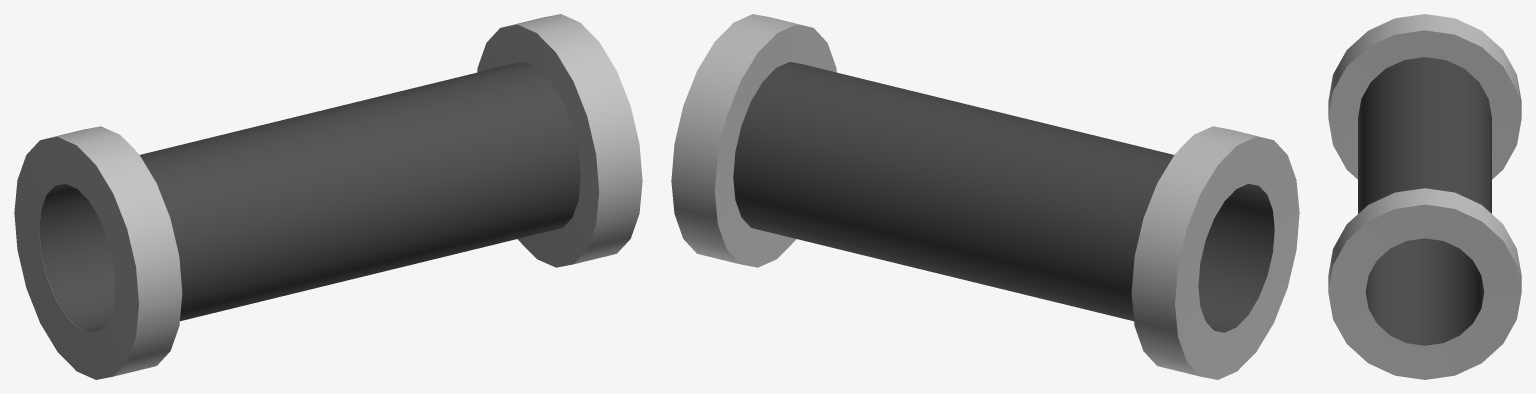
Rendered from Hazard_Pipe.fbx.
3 renders of one model, left to right at view 1: azimuth 30°, elevation 25°; view 2: azimuth 150°, elevation 25°; view 3: azimuth 270°, elevation 25°, orthographic. The views are drawn at different scales.
Parts seen in each view (by area): view 1: Pipe; view 2: Pipe; view 3: Pipe.
Boxes of the visible parts, x1,y1,x2,y2 form: Pipe: (14,14,642,379); Pipe: (671,14,1299,379); Pipe: (1328,14,1521,379).
Bounding box in the file's own units: 6.99 × 3 × 3.
1 material, 1 textured.
